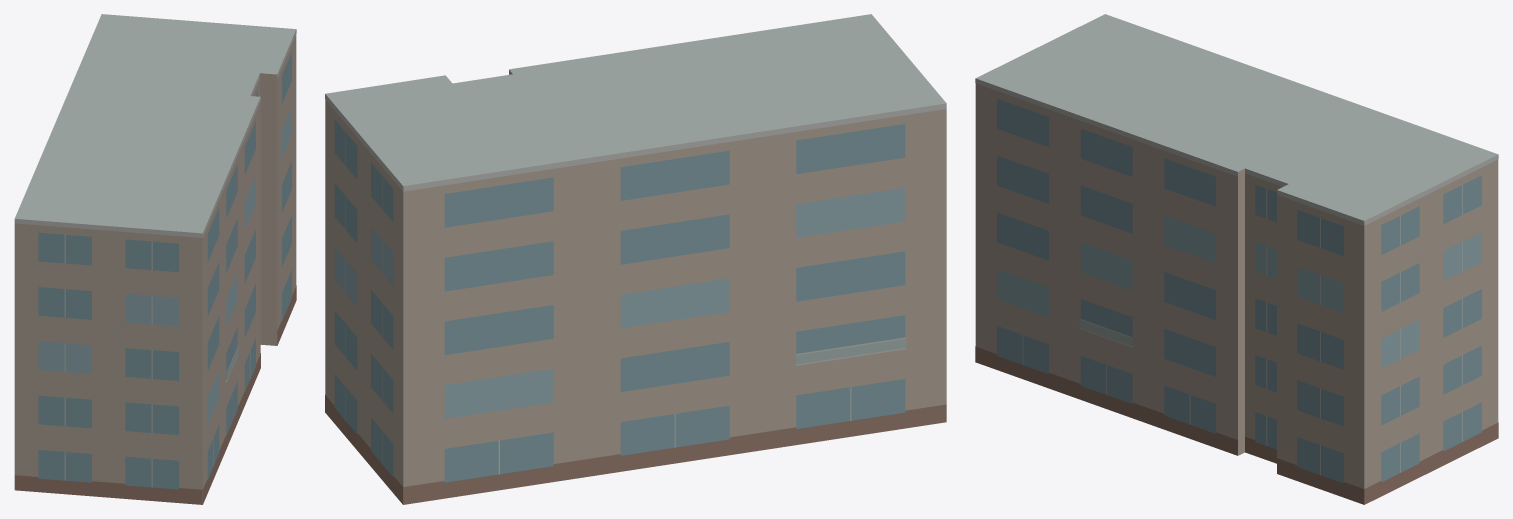
Rendered from survey-upis-32952812.glb.
3 renders of one model, left to right at view 1: azimuth 30°, elevation 25°; view 2: azimuth 150°, elevation 25°; view 3: azimuth 270°, elevation 25°, orthographic. The views are drawn at different scales.
Visible parts, largest first — view 1: survey-upis-32952812.tmp; view 2: survey-upis-32952812.tmp; view 3: survey-upis-32952812.tmp.
Boxes of the visible parts, x1,y1,x2,y2 form: survey-upis-32952812.tmp: (14,14,296,504); survey-upis-32952812.tmp: (325,14,946,504); survey-upis-32952812.tmp: (975,14,1498,504).
Bounding box in the file's own units: 22.37 × 14.3 × 23.88.
